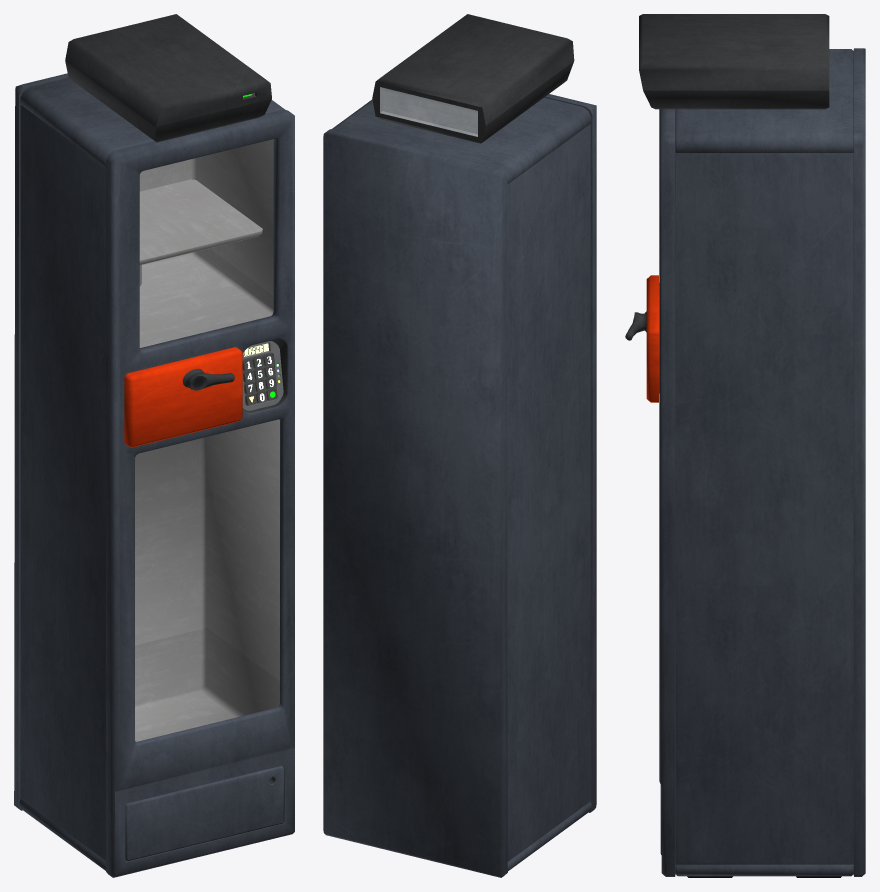
Rendered from locker.fbx.
The picture shows the model from 3 angles, left to right: view 1: azimuth 30°, elevation 25°; view 2: azimuth 150°, elevation 25°; view 3: azimuth 270°, elevation 25°; orthographic projection. The views are drawn at different scales.
Visible parts, largest first — view 1: hull, interior, drawer, glow_surface; view 2: hull; view 3: hull, drawer.
Boxes of the visible parts, x1,y1,x2,y2 form: hull: (14,14,294,877); interior: (135,139,279,741); drawer: (124,347,242,447); glow_surface: (242,93,280,405); hull: (323,14,596,877); hull: (639,14,865,877); drawer: (625,275,659,402).
Size of the model in its own units: 54.3 by 218 by 59.42.
3 materials, 3 textured.
